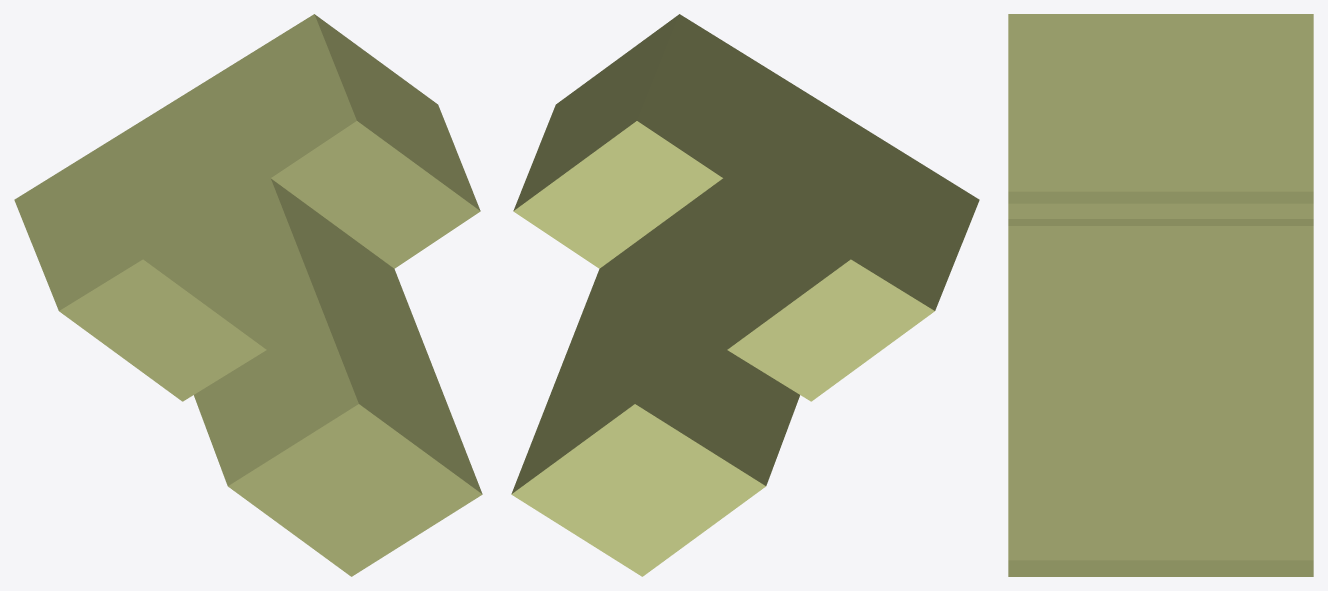
The picture shows the model from 3 angles, left to right: view 1: azimuth 30°, elevation 25°; view 2: azimuth 150°, elevation 25°; view 3: azimuth 270°, elevation 25°; orthographic projection. The views are drawn at different scales.
Parts seen in each view (by area): view 1: 0_1_3_2_1_1_1_2_2; view 2: 0_1_3_2_1_1_1_2_2; view 3: 0_1_3_2_1_1_1_2_2.
Part boxes in pixels (left/top/right/bottom): 0_1_3_2_1_1_1_2_2: left=14, top=14, right=482, bottom=576; 0_1_3_2_1_1_1_2_2: left=511, top=14, right=979, bottom=576; 0_1_3_2_1_1_1_2_2: left=1008, top=14, right=1313, bottom=576.
Bounding box in the file's own units: 9.65 × 12.07 × 6.
